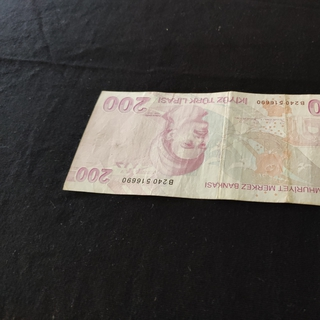200TLBack: (62, 89, 320, 209)
